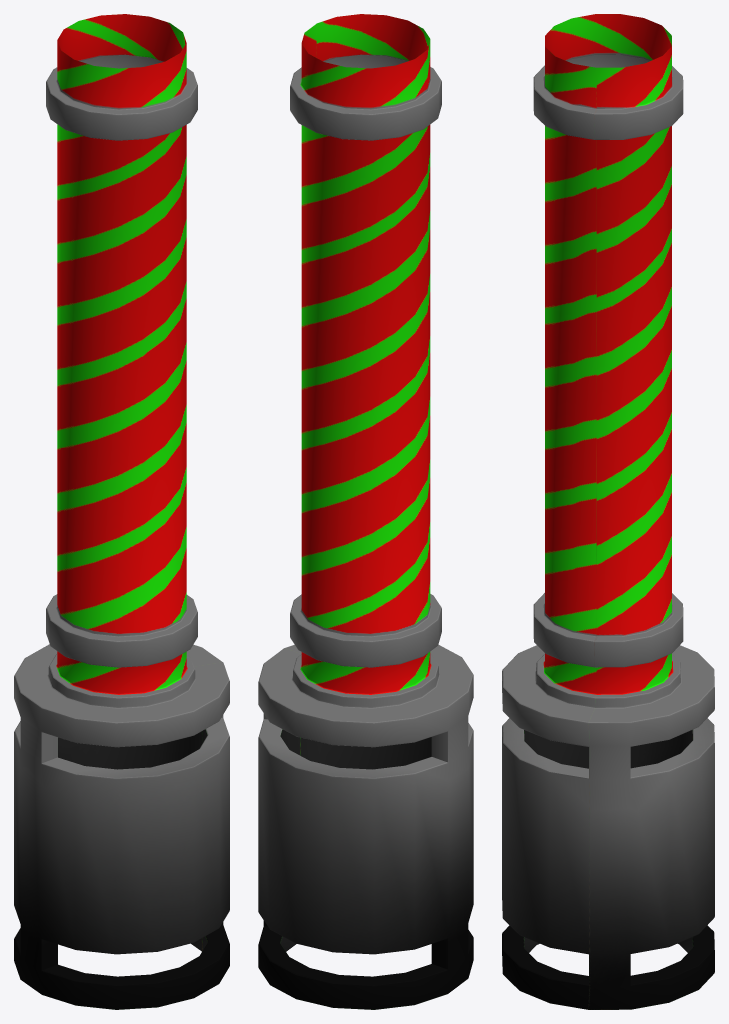
The model's file is DM_FlameThrower.glb.
The picture shows the model from 3 angles, left to right: view 1: azimuth 30°, elevation 25°; view 2: azimuth 150°, elevation 25°; view 3: azimuth 270°, elevation 25°; orthographic projection.
Visible parts, largest first — view 1: DM_FlameThrower; view 2: DM_FlameThrower; view 3: DM_FlameThrower.
Boxes of the visible parts, <box> form: DM_FlameThrower: <box>14,14,229,1009</box>; DM_FlameThrower: <box>258,14,473,1009</box>; DM_FlameThrower: <box>502,14,714,1009</box>.
Bounding box in the file's own units: 0.3204 × 1.53 × 0.3199.
Materials: 1 (1 with a texture image).
